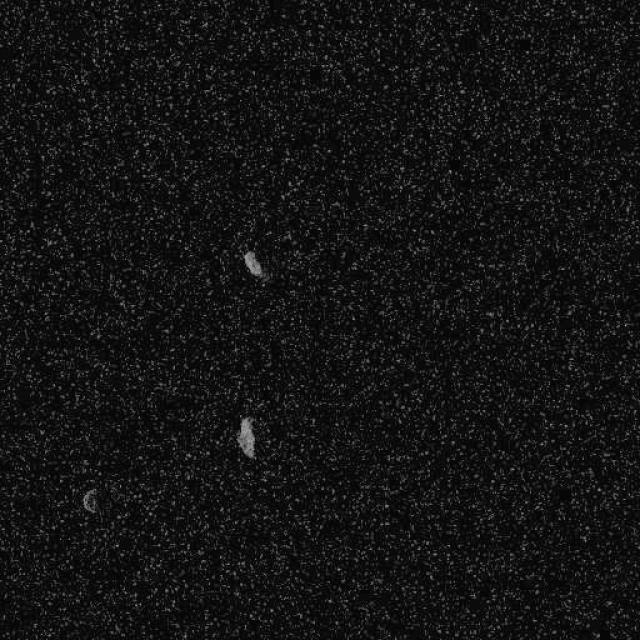D2: (235, 415, 256, 459), (241, 249, 264, 279), (81, 487, 100, 515)
